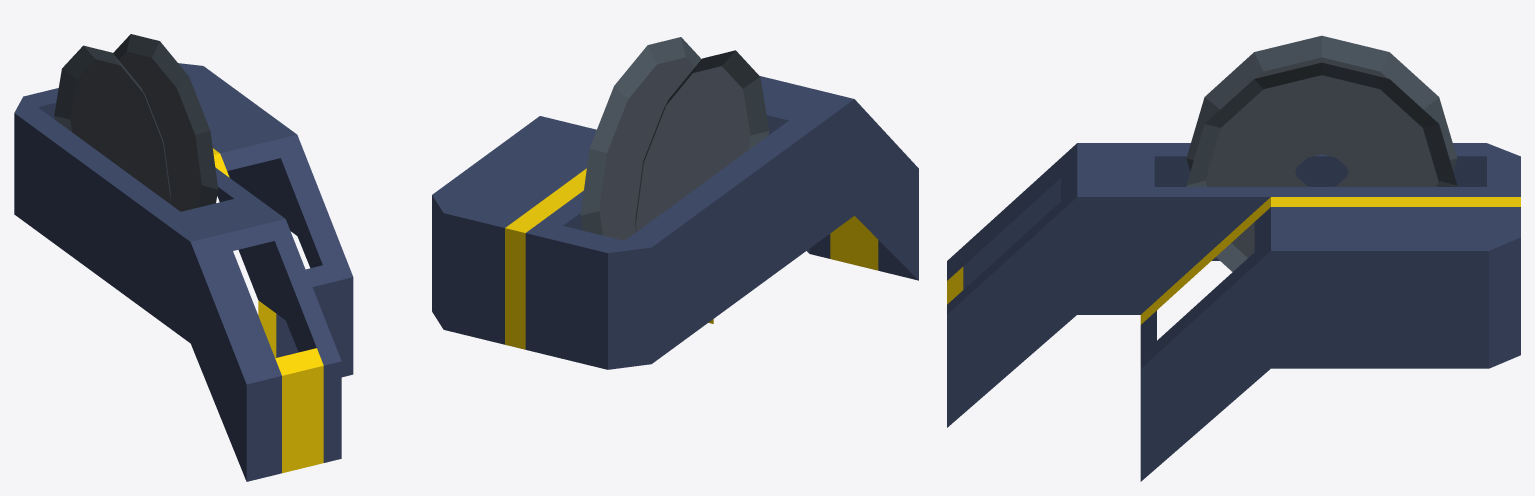
The model's file is g_o_HoseSorter.fbx.
3 views of the same model, side by side, from view 1: azimuth 30°, elevation 25°; view 2: azimuth 150°, elevation 25°; view 3: azimuth 270°, elevation 25° (orthographic). The views are drawn at different scales.
Parts seen in each view (by area): view 1: g_o_HoseSorter; view 2: g_o_HoseSorter; view 3: g_o_HoseSorter.
Boxes of the visible parts, bbox=[...] form: g_o_HoseSorter: bbox=[14, 34, 353, 481]; g_o_HoseSorter: bbox=[432, 37, 918, 369]; g_o_HoseSorter: bbox=[947, 35, 1520, 481].
Size of the model in its own units: 0.8 by 1.3 by 1.8.
